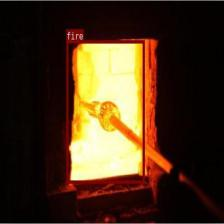fire: (66, 40, 144, 182)
